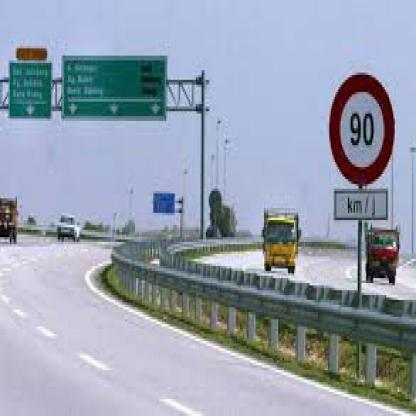Speed Limit -90-: (324, 81, 403, 184)
